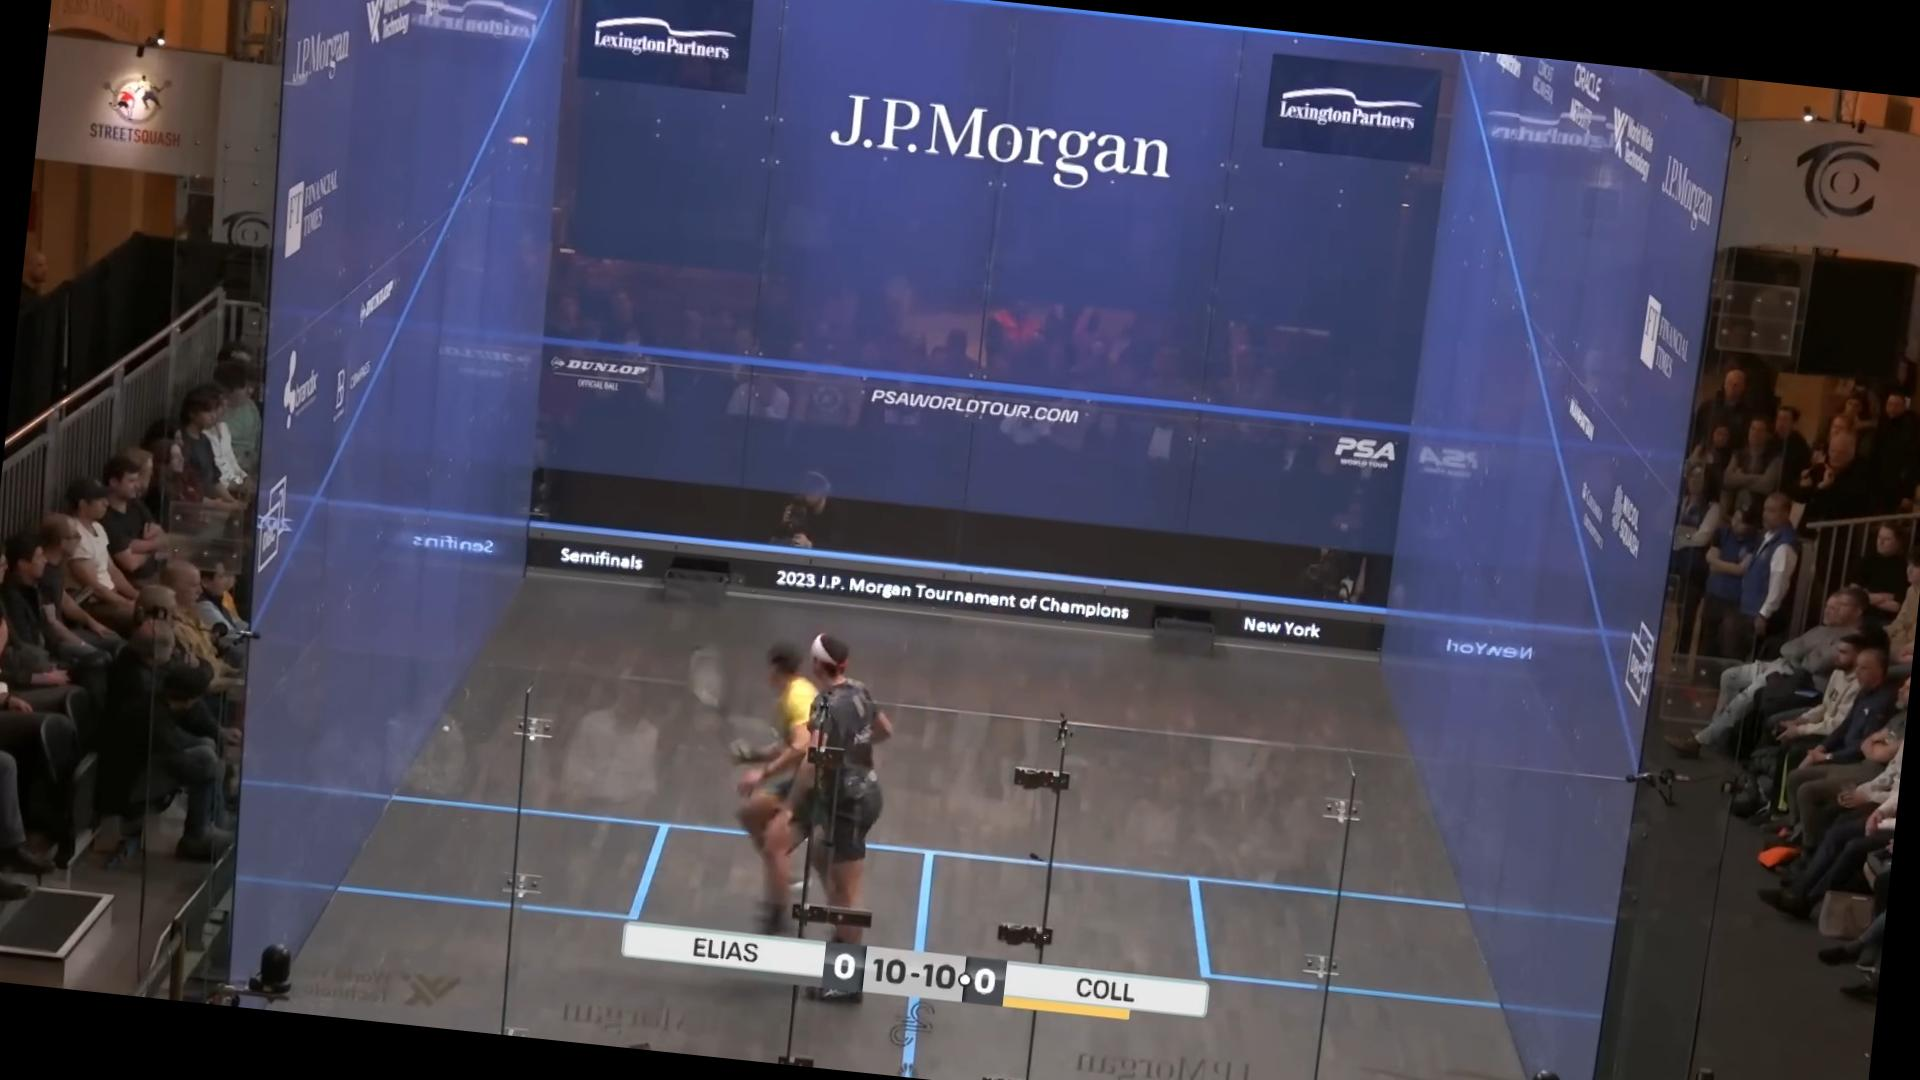Racket: (670, 634, 764, 754)
